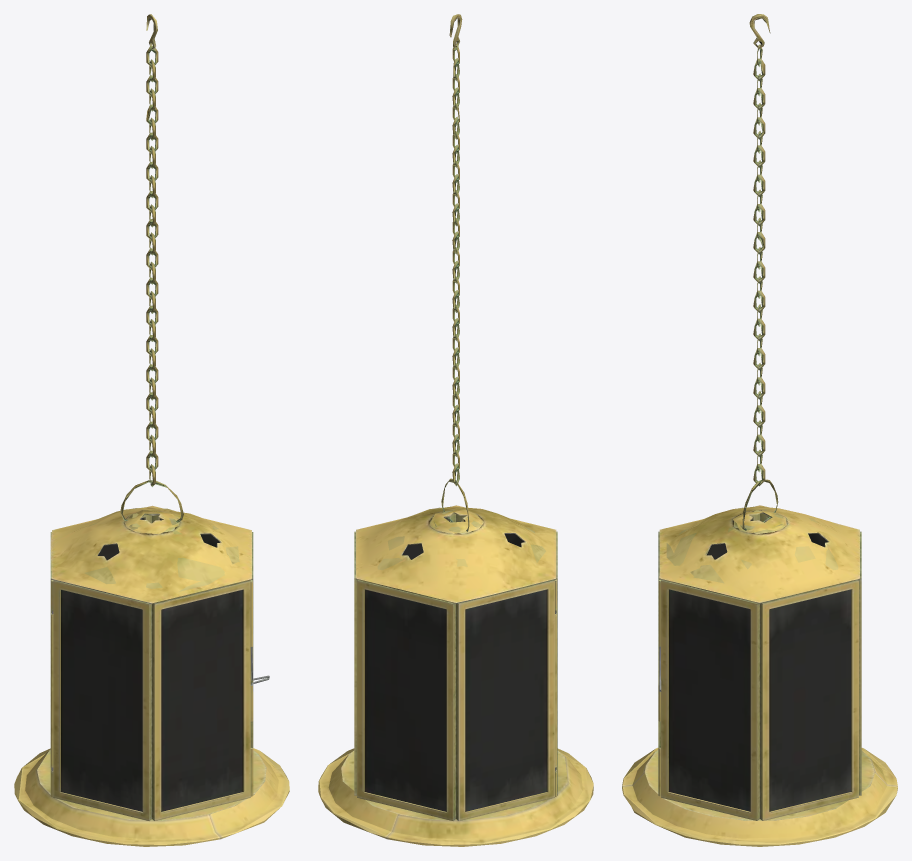
File: brass_diya_lantern.glb
The picture shows the model from 3 angles, left to right: view 1: azimuth 30°, elevation 25°; view 2: azimuth 150°, elevation 25°; view 3: azimuth 270°, elevation 25°; orthographic projection.
Parts seen in each view (by area): view 1: brass_diya_lantern, brass_diya_lantern_connection; view 2: brass_diya_lantern, brass_diya_lantern_connection; view 3: brass_diya_lantern, brass_diya_lantern_connection.
Boxes of the visible parts, x1,y1,x2,y2 form: brass_diya_lantern: [14, 505, 289, 846]; brass_diya_lantern_connection: [120, 14, 183, 522]; brass_diya_lantern: [318, 505, 593, 846]; brass_diya_lantern_connection: [441, 14, 469, 531]; brass_diya_lantern: [622, 505, 897, 846]; brass_diya_lantern_connection: [742, 14, 778, 530].
Bounding box in the file's own units: 0.123 × 0.3807 × 0.123.
3 materials, 3 textured.
